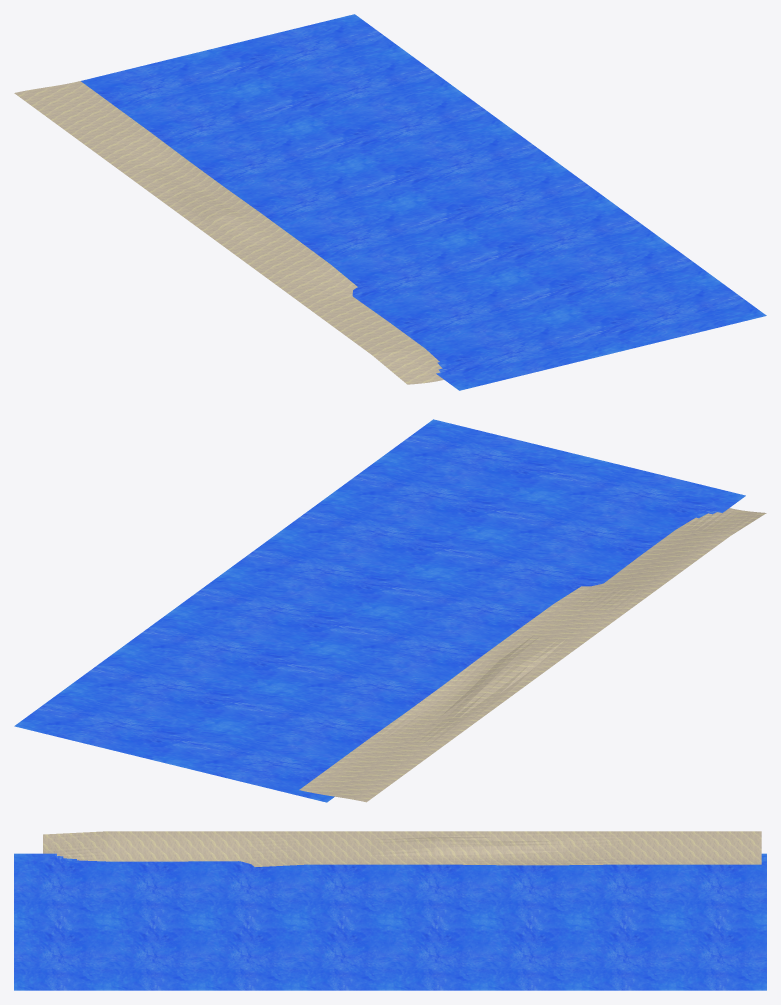
Rendered from BeachScene.glb.
The picture shows the model from 3 angles, top to bottom: view 1: azimuth 30°, elevation 25°; view 2: azimuth 150°, elevation 25°; view 3: azimuth 270°, elevation 25°; orthographic projection. The views are drawn at different scales.
Parts seen in each view (by area): view 1: Water2, SandFloor2; view 2: Water2, SandFloor2; view 3: Water2, SandFloor2.
Boxes of the visible parts, x1,y1,x2,y2 form: Water2: (81,14,766,390); SandFloor2: (14,81,443,384); Water2: (14,419,745,802); SandFloor2: (299,508,766,802); Water2: (14,853,766,990); SandFloor2: (43,831,761,866).
Bounding box in the file's own units: 104 × 2.5 × 215.
2 materials, 2 textured.
